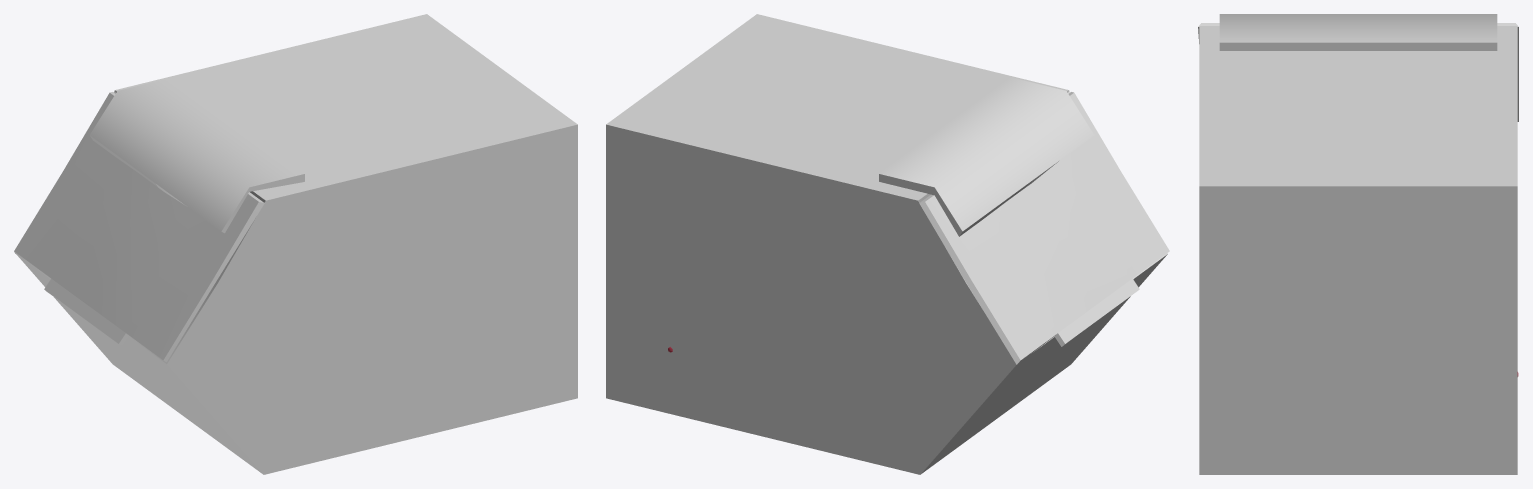
Rendered from GummyWorms_WT4.fbx.
3 renders of one model, left to right at view 1: azimuth 30°, elevation 25°; view 2: azimuth 150°, elevation 25°; view 3: azimuth 270°, elevation 25°, orthographic. The views are drawn at different scales.
Parts seen in each view (by area): view 1: CandyContainer_Low1; view 2: CandyContainer_Low1; view 3: CandyContainer_Low1.
Part boxes in pixels (x1,y1,x2,y2): CandyContainer_Low1: [14, 14, 577, 474]; CandyContainer_Low1: [606, 14, 1169, 474]; CandyContainer_Low1: [1198, 14, 1518, 474].
Size of the model in its own units: 73.54 by 47.02 by 46.06.
2 materials, 1 textured.
